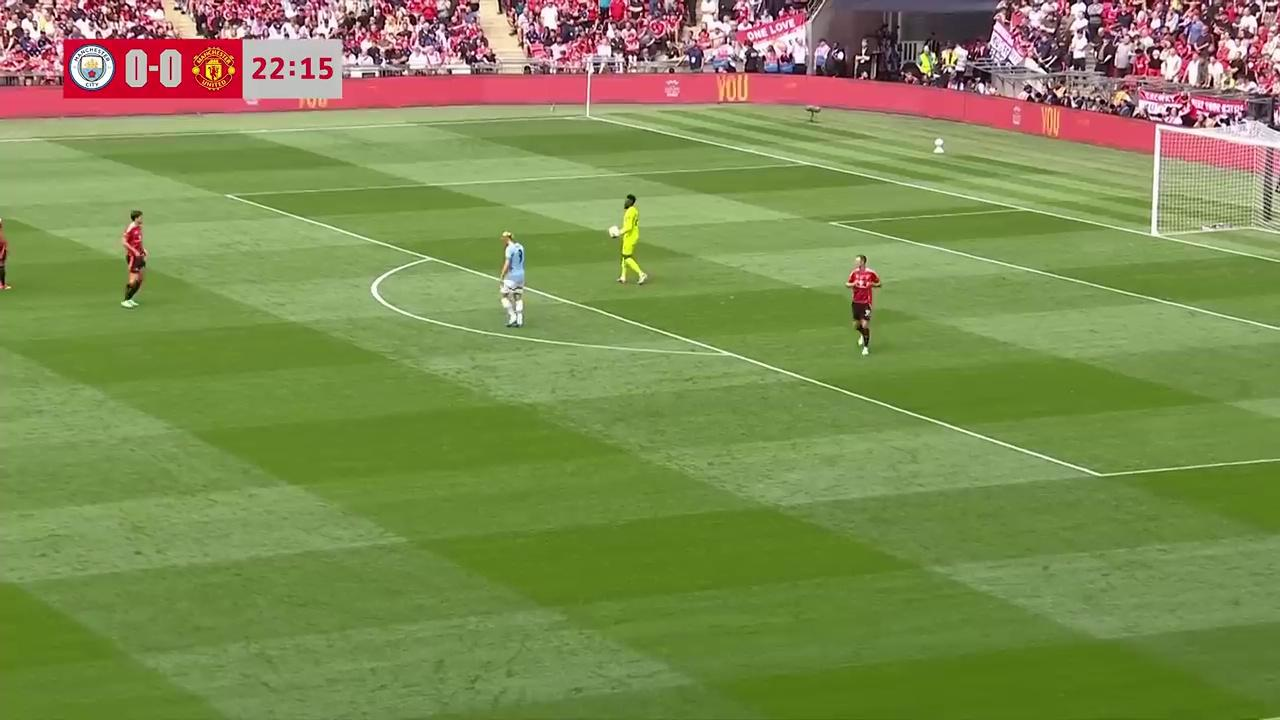ball: (606, 222, 622, 239)
player: (610, 196, 649, 285), (846, 254, 880, 354), (119, 210, 147, 307), (497, 229, 524, 328), (0, 220, 11, 290)
